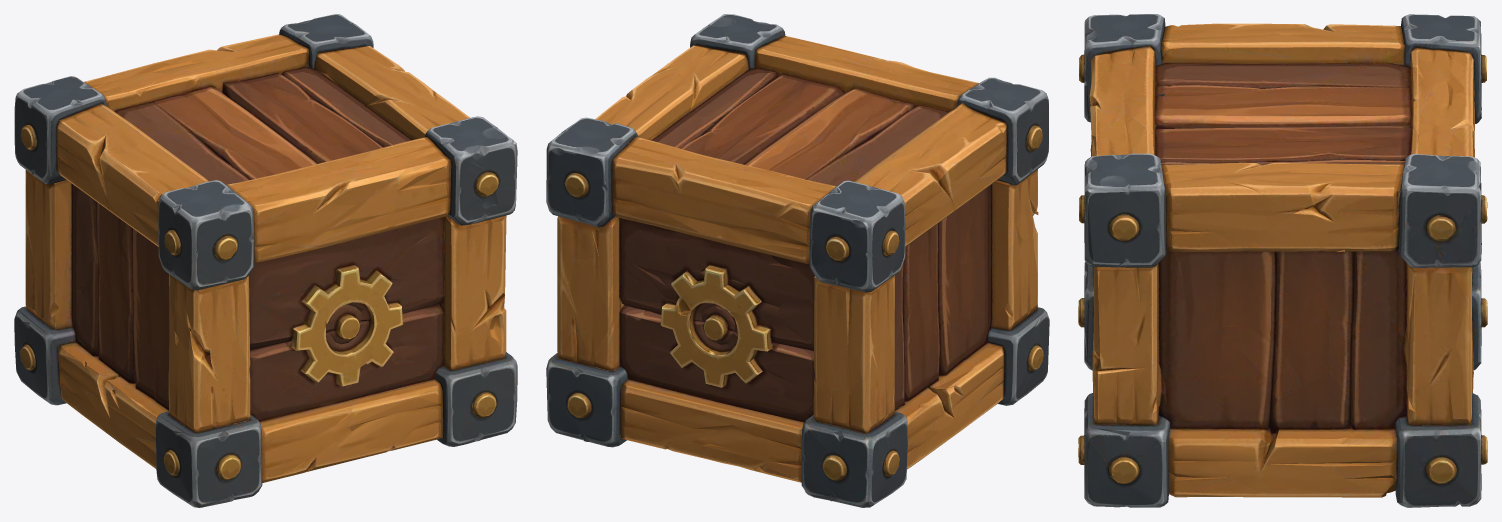
File: prop_crate.glb
The picture shows the model from 3 angles, left to right: view 1: azimuth 30°, elevation 25°; view 2: azimuth 150°, elevation 25°; view 3: azimuth 270°, elevation 25°; orthographic projection. The views are drawn at different scales.
Visible parts, largest first — view 1: output_unwrapped; view 2: output_unwrapped; view 3: output_unwrapped.
Part boxes in pixels (left/top/right/bottom): output_unwrapped: left=14, top=14, right=517, bottom=507; output_unwrapped: left=546, top=14, right=1049, bottom=507; output_unwrapped: left=1078, top=14, right=1487, bottom=507.
Size of the model in its own units: 1.9 by 1.6 by 1.81.
1 material, 1 textured.
